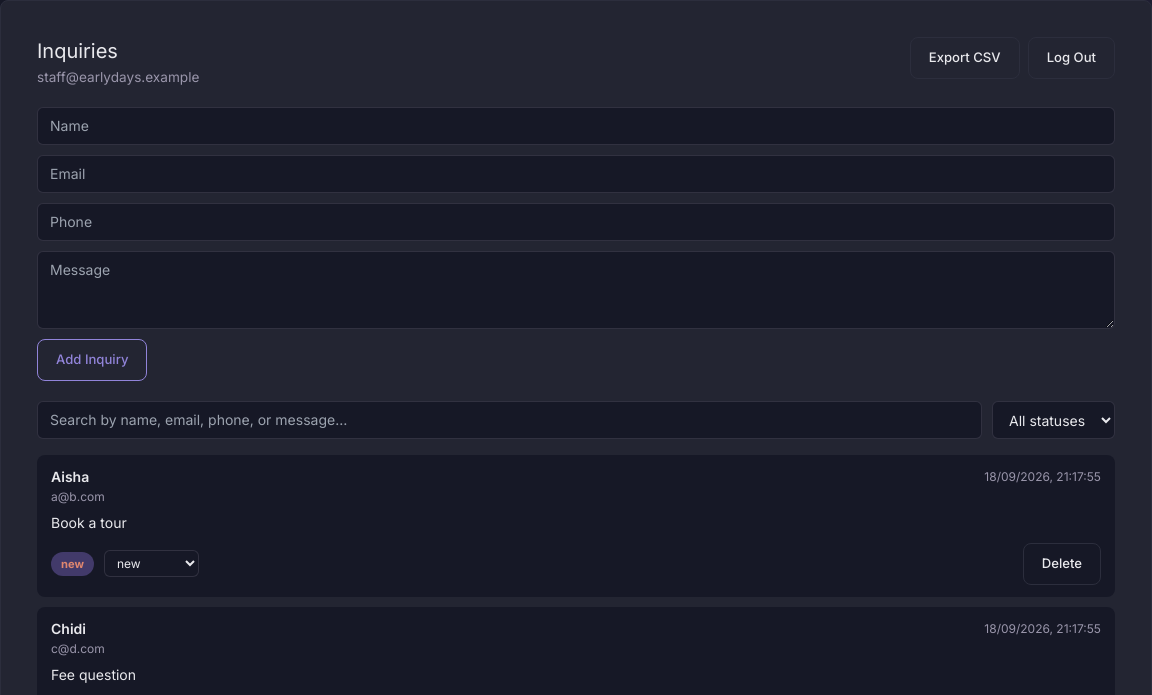
it: AdminInquiriesPanel › narrows the list by search text
Check: the text "Aisha" is shown, box top-left (51, 467), bottom-right (89, 487)
Check: the text "Chidi" is shown, box top-left (51, 619), bottom-right (86, 639)
Step 1. Type "Chidi" into the field named "Search inquiries" → (510, 420), box top-left (37, 401), bottom-right (982, 439)
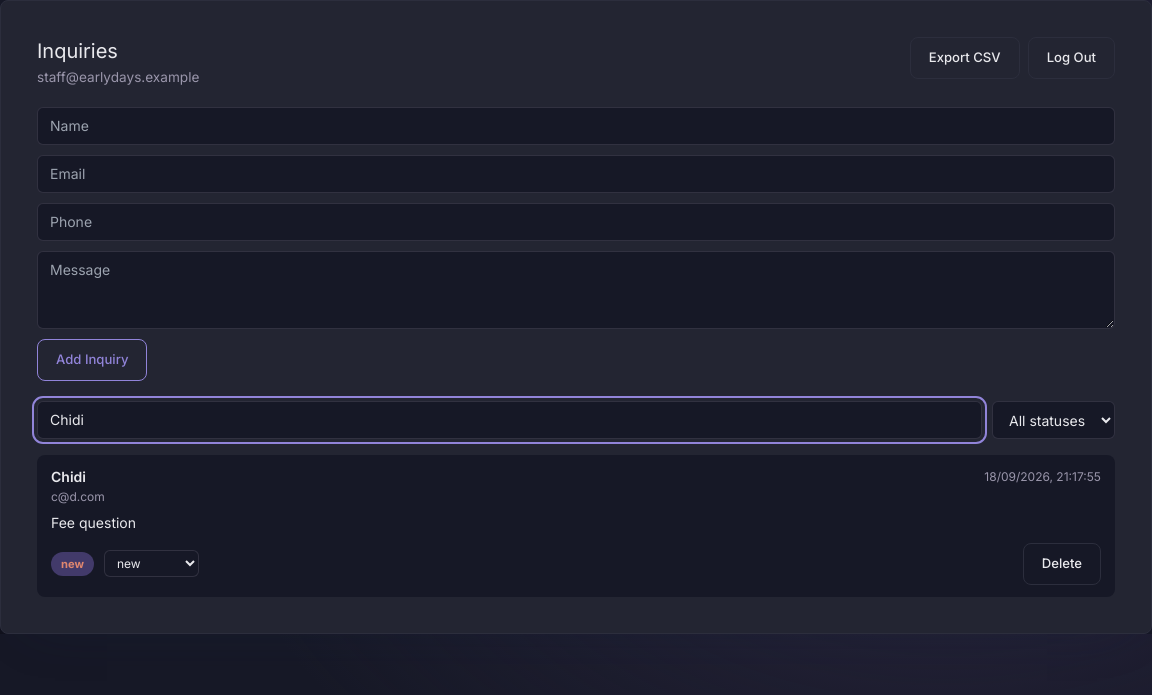
Check: the text "Chidi" is shown, box top-left (51, 467), bottom-right (86, 487)
Check: the text "Aisha" is gone
